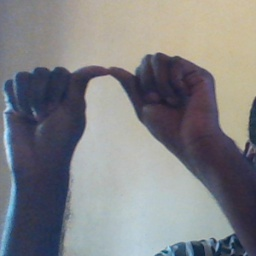A: (3, 49, 225, 172)
